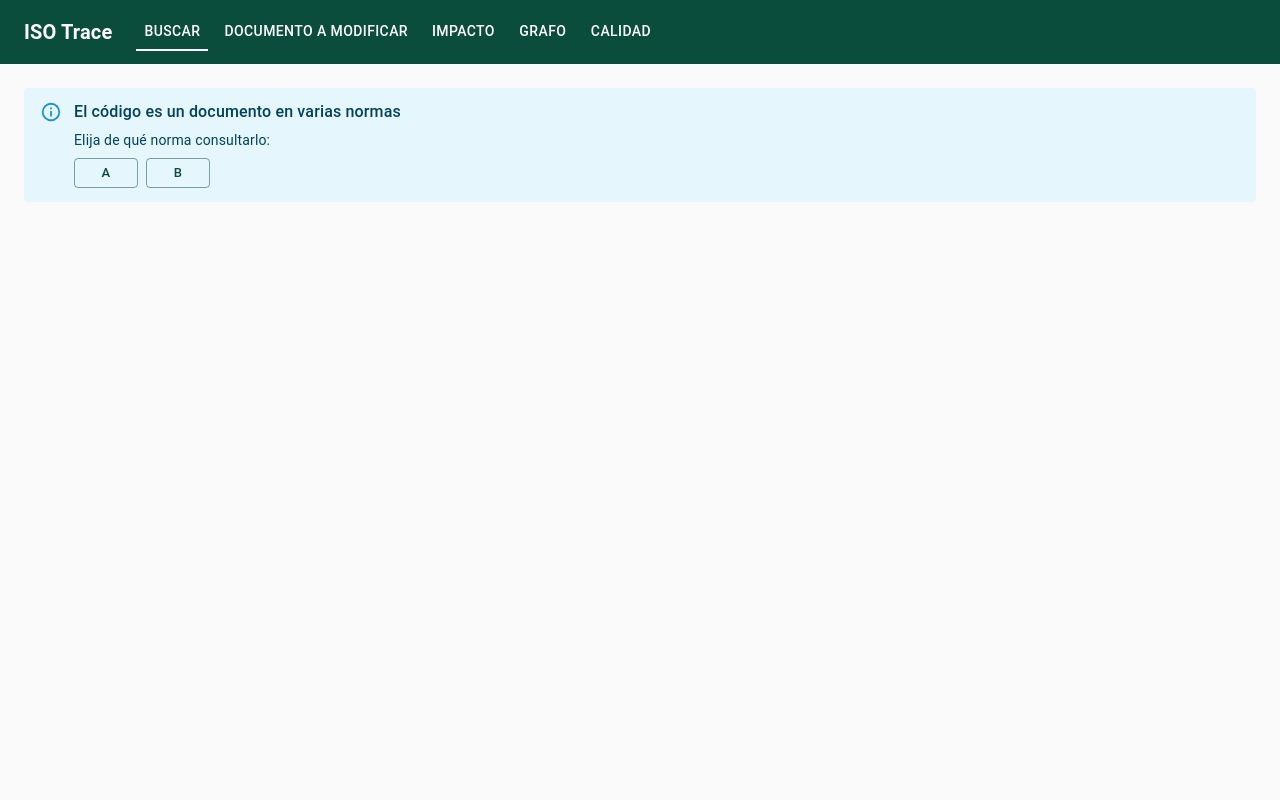
Test: DocumentPage › pide elegir la norma si el código es documento en varias
expect the text "El código es un documento en varias normas" is shown: met, box left=74, top=100, right=401, bottom=124
Click the button "B" at coordinates (178, 173), box left=146, top=158, right=210, bottom=188
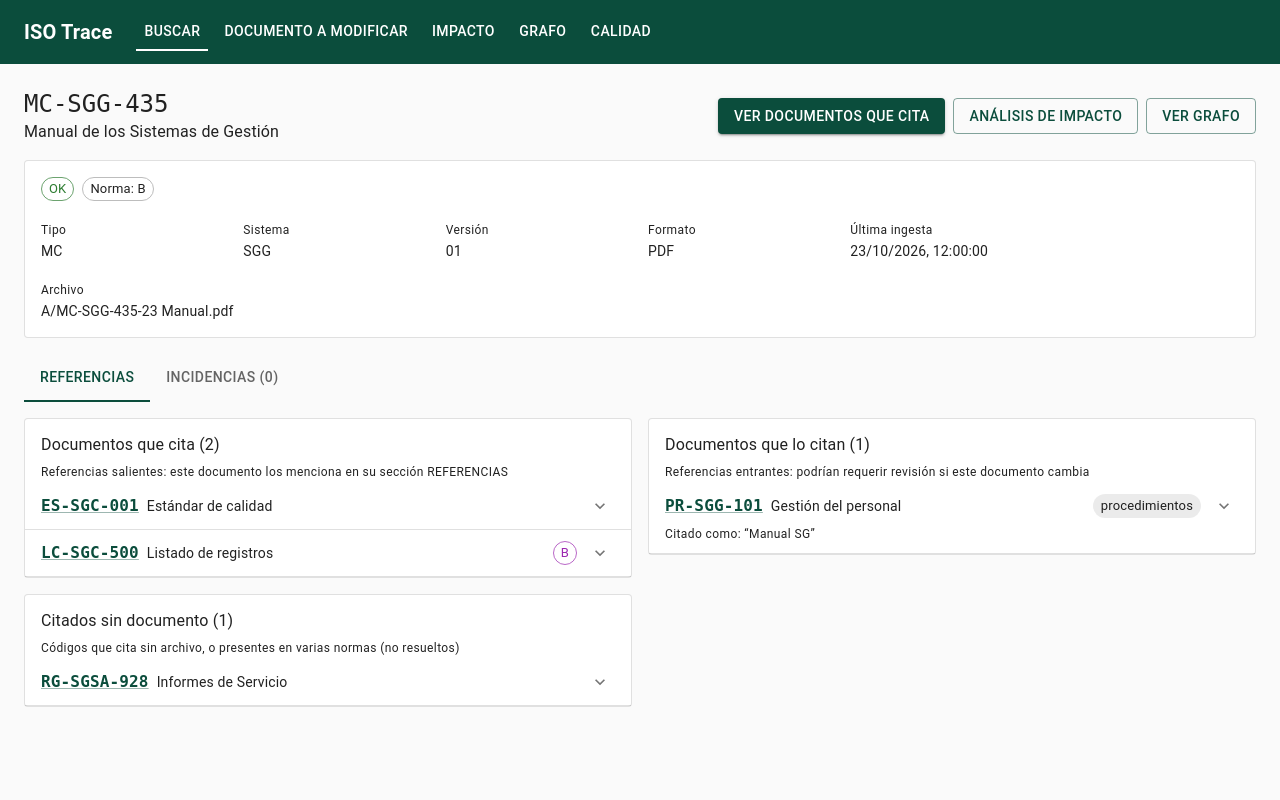
expect the element "Documentos que cita" is shown: met, box left=24, top=418, right=632, bottom=578
